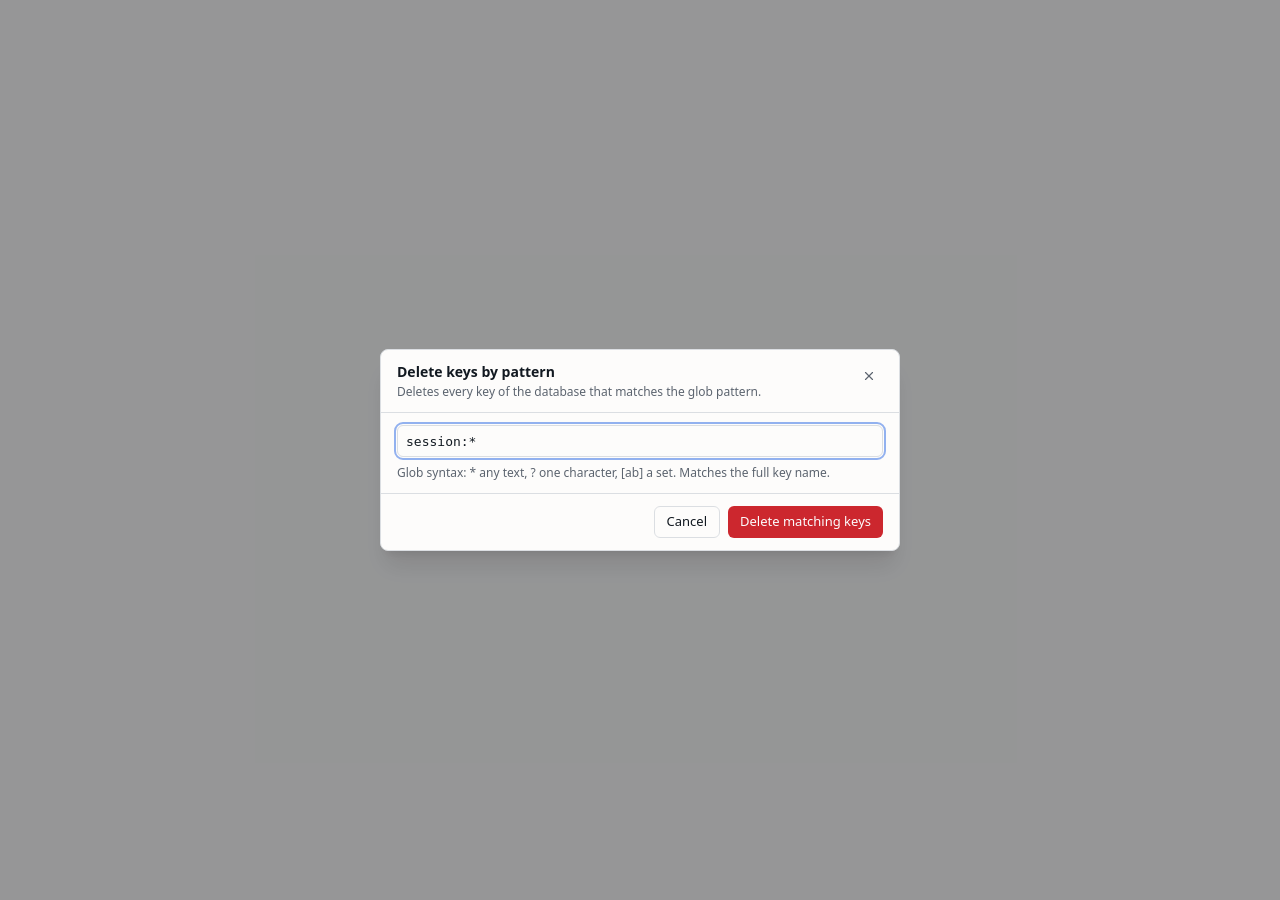
Scenario: DeleteByPatternDialog › suggests <prefix>* and deletes with progress
Expected: the field named "Pattern" holds "session:*", [397,425,883,457]
Click the button "Delete matching keys" at [806, 522], box [728,506,883,538]
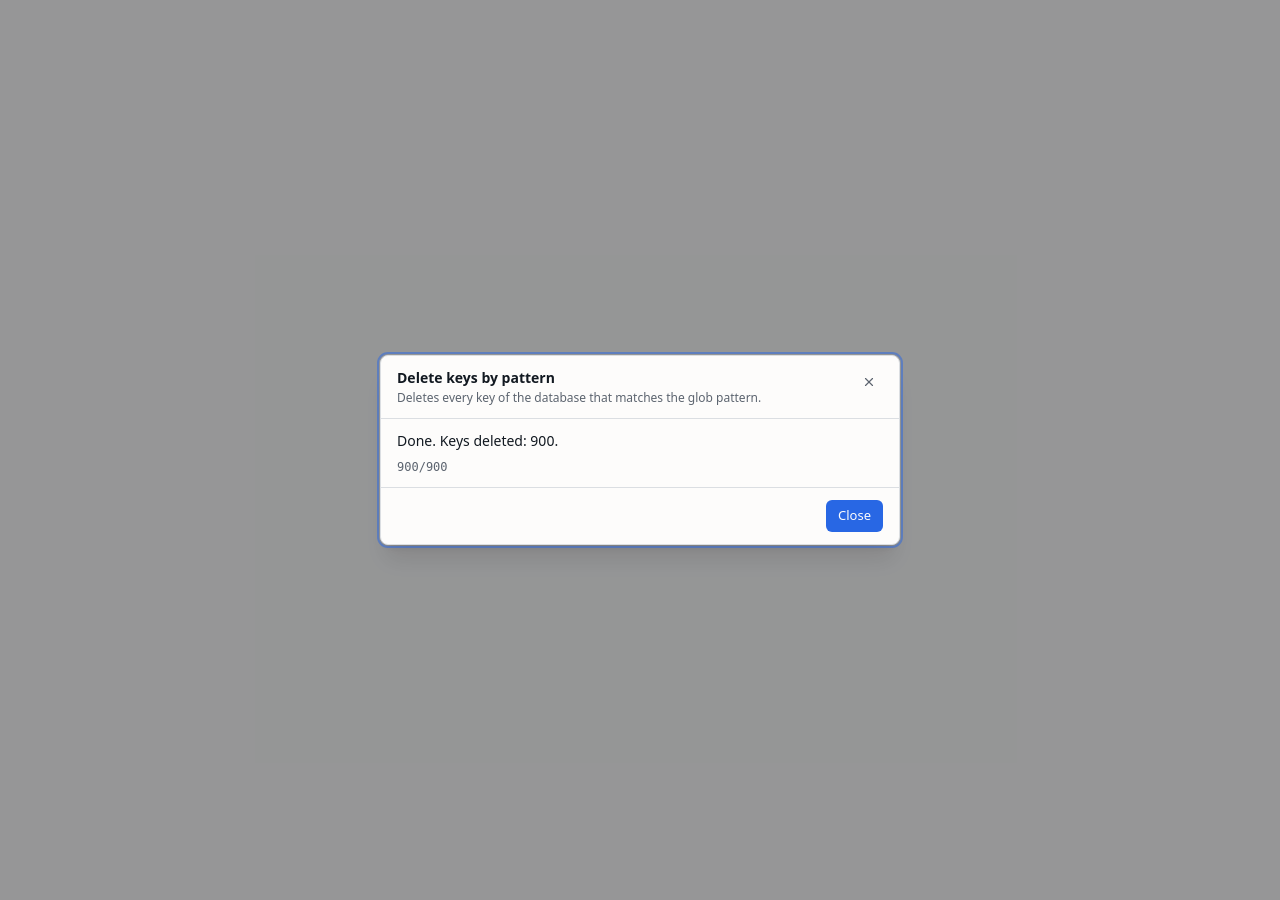
Expected: the text "Done. Keys deleted: 900." is shown, [397,431,558,451]
